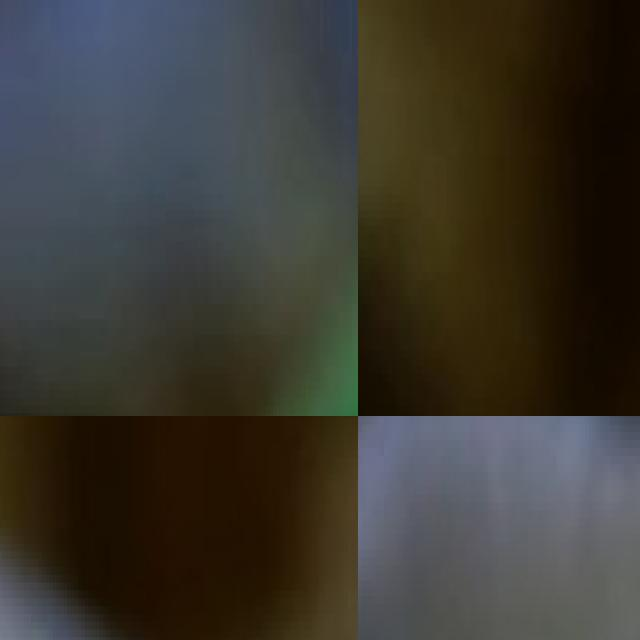fish: (0, 0, 358, 416), (358, 416, 640, 640)
